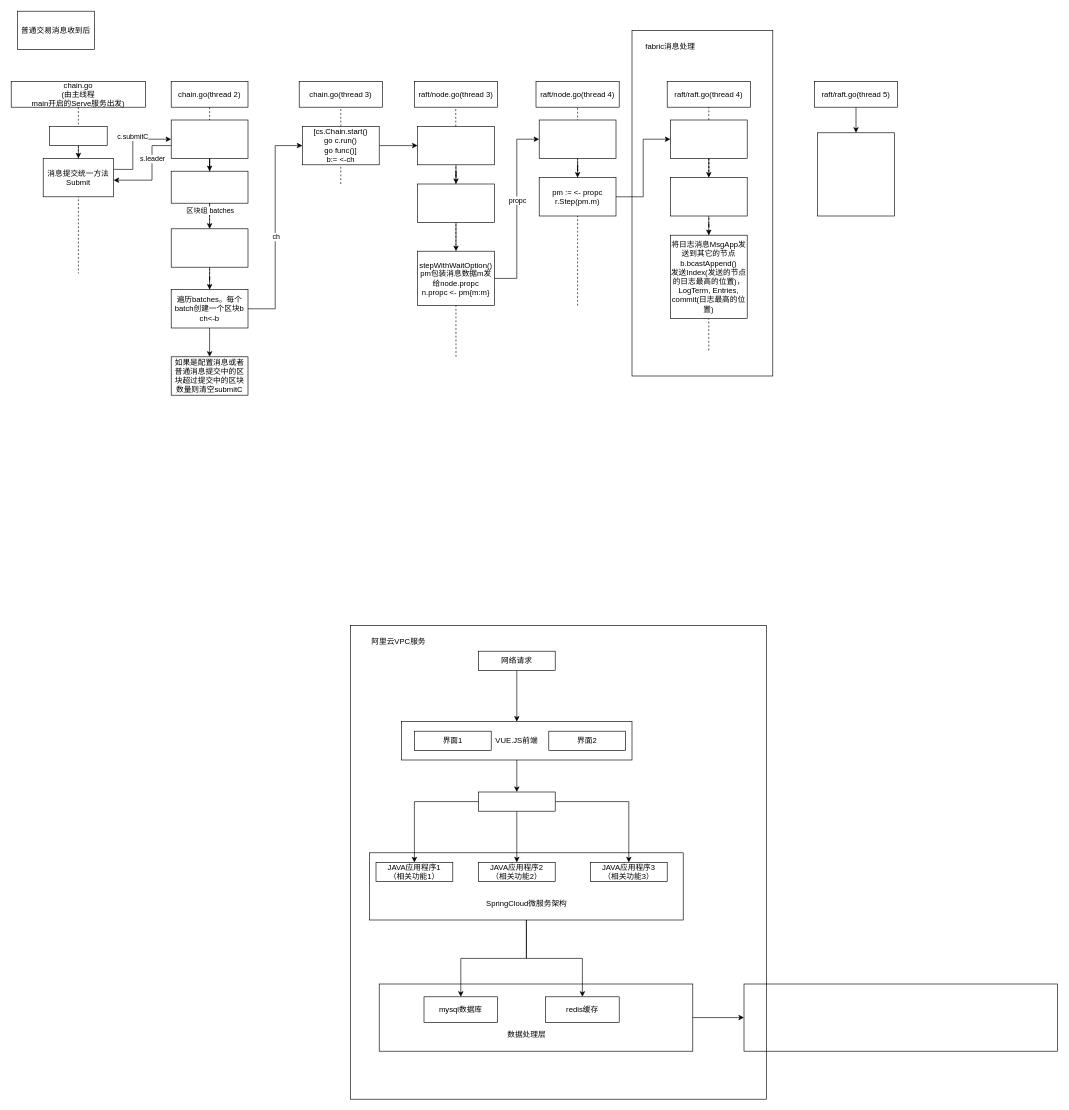
The diagram is 1069 pixels wide and 1110 high, and some of its shapes have lost their labels. Each missing label, with the centre of its shape:
"[cs.Chain.start() go c.run()] run() s<-submitC" goes at point (209, 138).
"b序列化为data后，处理区块内容 Propose(ctx , data)" goes at point (455, 145).
"Nginx负载均衡代理" goes at point (516, 801).
"r.Step()中执行r.step()在ledaer中为StepLeader" goes at point (708, 138).
"stepWait() 打包为MsgProp类型数据m，包含在Entries中" goes at point (455, 202).
"处理普通消息 Order" goes at point (78, 136).
"排序方法 c.orderer(s.req)" goes at point (209, 187).
"提交区块 c.propose(propC, bc, batches...)" goes at point (209, 247).
"来自fabric的node.go中raft.StartNode或者raft.restartNode go node.run(raft)" goes at point (577, 138).
"等待follower返回MsgAppRes，然后如果有超过半数同意的话，就通知所有节点更新日志。" goes at point (855, 174).
"衍生，这里可以用纯文字写或者改进，数据层可以用于数据处理。数据处理之后再改进程序" goes at point (900, 1017).
"追加消息到ledaer日志中，但是没有commit r.appendEntry(entries)" goes at point (708, 196).
